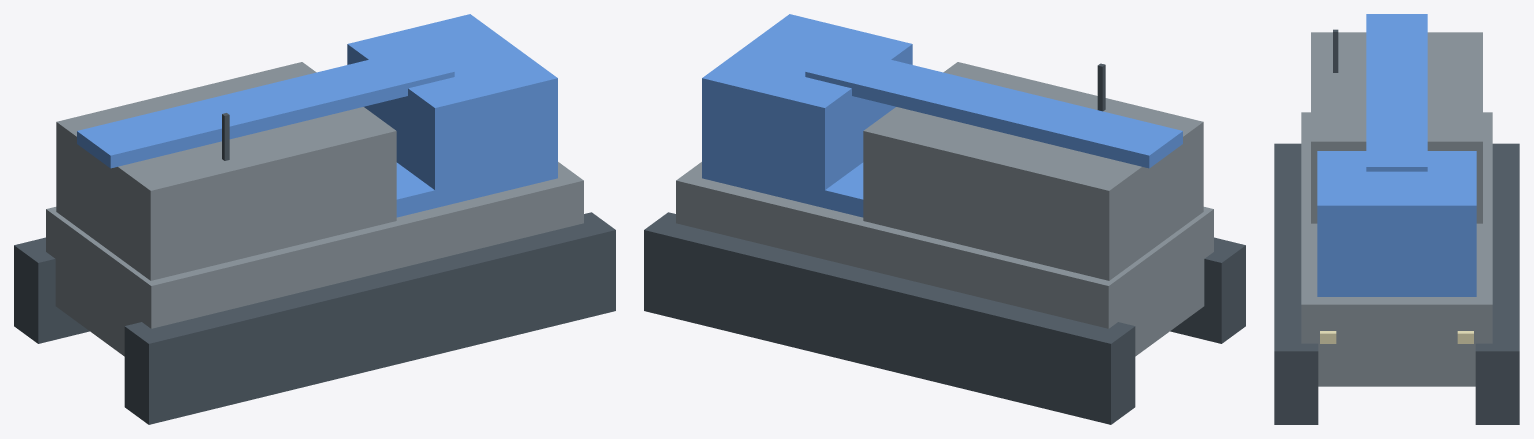
File: bouwvoertuig.glb
3 views of the same model, side by side, from view 1: azimuth 30°, elevation 25°; view 2: azimuth 150°, elevation 25°; view 3: azimuth 270°, elevation 25° (orthographic). The views are drawn at different scales.
Parts seen in each view (by area): view 1: hull_steel_LOD0, hull_dark_LOD0, hull_team_LOD0; view 2: hull_steel_LOD0, hull_dark_LOD0, hull_team_LOD0; view 3: hull_steel_LOD0, hull_team_LOD0, hull_dark_LOD0, hull_lamp_LOD0.
Part boxes in pixels (x1,y1,x2,y2): hull_steel_LOD0: [46, 62, 583, 356]; hull_dark_LOD0: [14, 113, 615, 424]; hull_team_LOD0: [77, 14, 557, 217]; hull_steel_LOD0: [676, 62, 1213, 356]; hull_dark_LOD0: [644, 63, 1245, 424]; hull_team_LOD0: [702, 14, 1182, 217]; hull_steel_LOD0: [1301, 32, 1492, 386]; hull_team_LOD0: [1317, 14, 1476, 296]; hull_dark_LOD0: [1274, 29, 1519, 424]; hull_lamp_LOD0: [1320, 331, 1473, 343].
Size of what is drawn, in the model's own units: 7.6 by 4.03 by 3.8.
